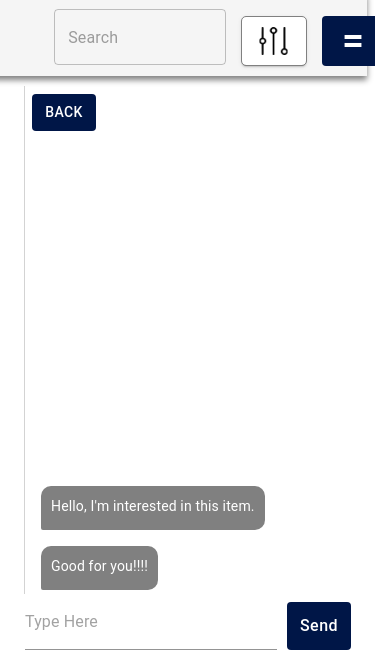
Test: <Messages/> › mobile › mobile: should show threads when you go back
The width and height of the screenshot is (387, 667).
Click the button "Back": (64, 113) [32,94,96,131]
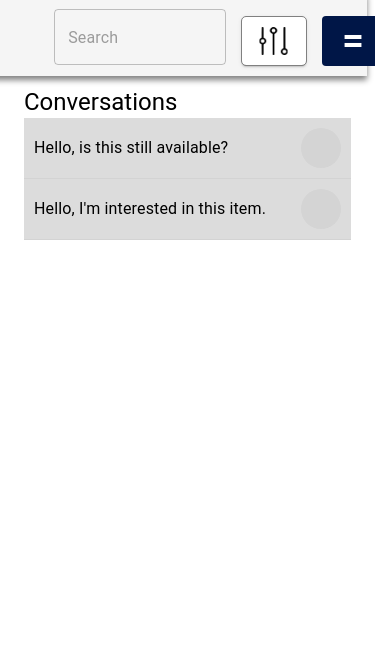
Result: the heading "Conversations" is shown at [24,86,177,118]
